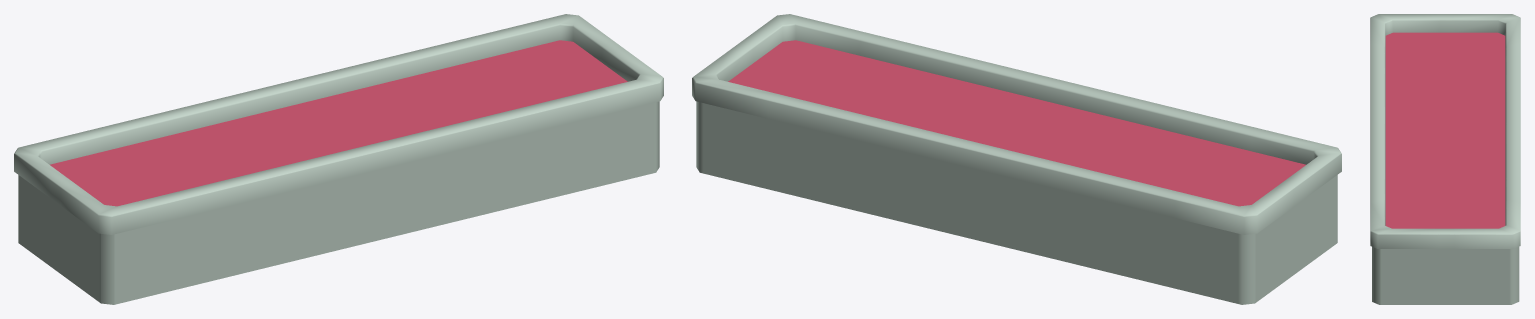
Rendered from Struct_FlowerBox_A.fbx.
3 views of the same model, side by side, from view 1: azimuth 30°, elevation 25°; view 2: azimuth 150°, elevation 25°; view 3: azimuth 270°, elevation 25° (orthographic). The views are drawn at different scales.
Visible parts, largest first — view 1: Struct_FlowerBox_A; view 2: Struct_FlowerBox_A; view 3: Struct_FlowerBox_A.
Part boxes in pixels (bbox=[...]): Struct_FlowerBox_A: bbox=[14, 14, 663, 304]; Struct_FlowerBox_A: bbox=[692, 14, 1341, 304]; Struct_FlowerBox_A: bbox=[1370, 14, 1520, 304].
Size of the model in its own units: 6.3 by 0.9611 by 1.82.
